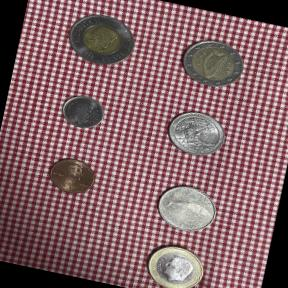coin: (51, 0, 149, 77), (153, 98, 240, 172), (170, 26, 258, 98), (145, 171, 226, 241), (131, 229, 218, 288), (39, 147, 104, 202), (48, 86, 112, 138)
